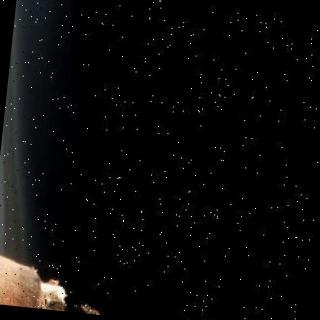smoke: (0, 0, 37, 247)
